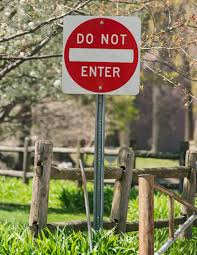No entry: (64, 18, 138, 93)
